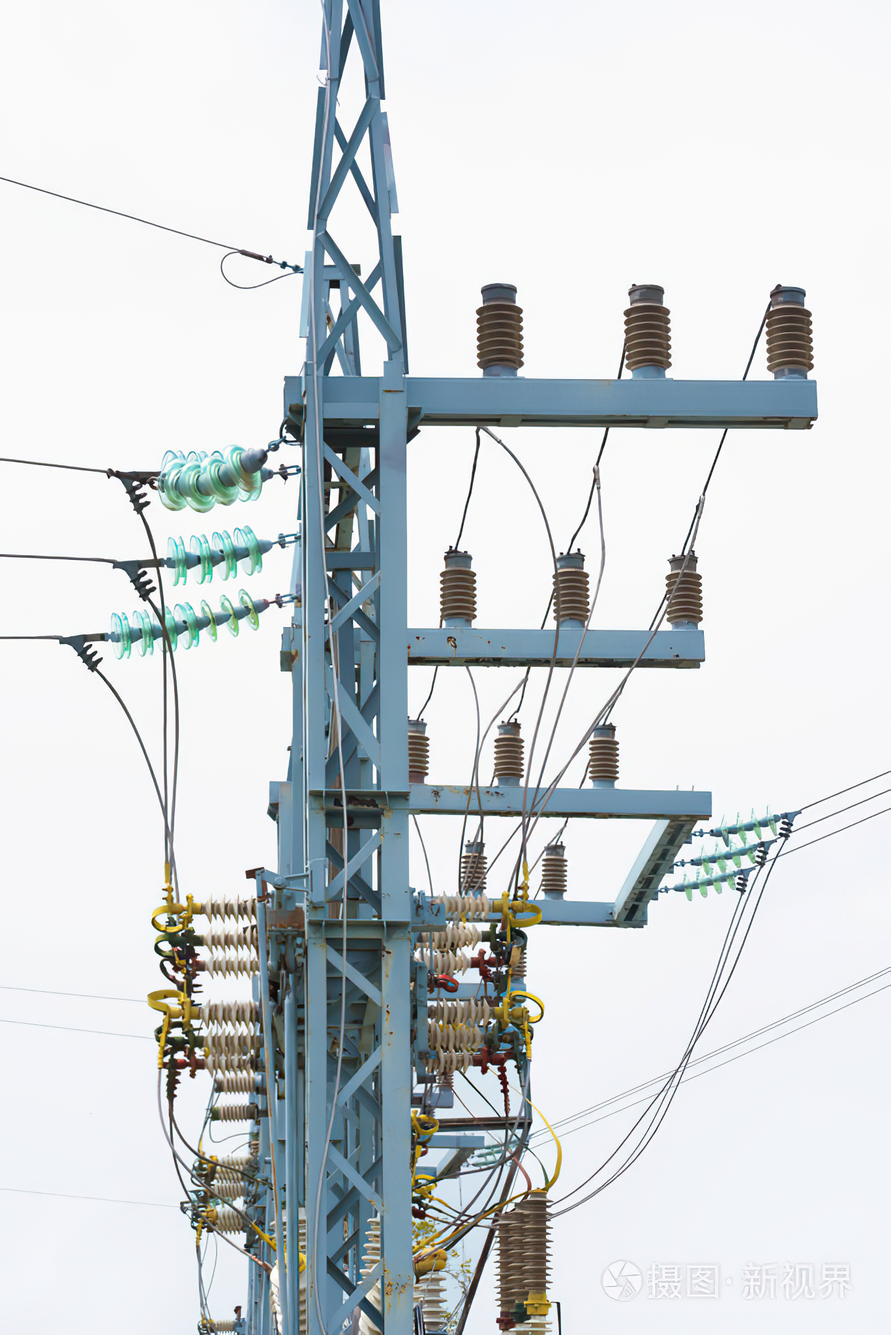insulator: (110, 590, 264, 657), (159, 446, 258, 510), (170, 530, 266, 587), (760, 303, 816, 374), (622, 299, 674, 368), (472, 303, 527, 368), (717, 806, 784, 844), (435, 566, 482, 619), (549, 571, 594, 622), (665, 571, 707, 624), (692, 840, 759, 873), (536, 850, 577, 895), (680, 871, 736, 902), (492, 734, 529, 778), (585, 738, 620, 780), (459, 853, 494, 890), (405, 731, 427, 784)
